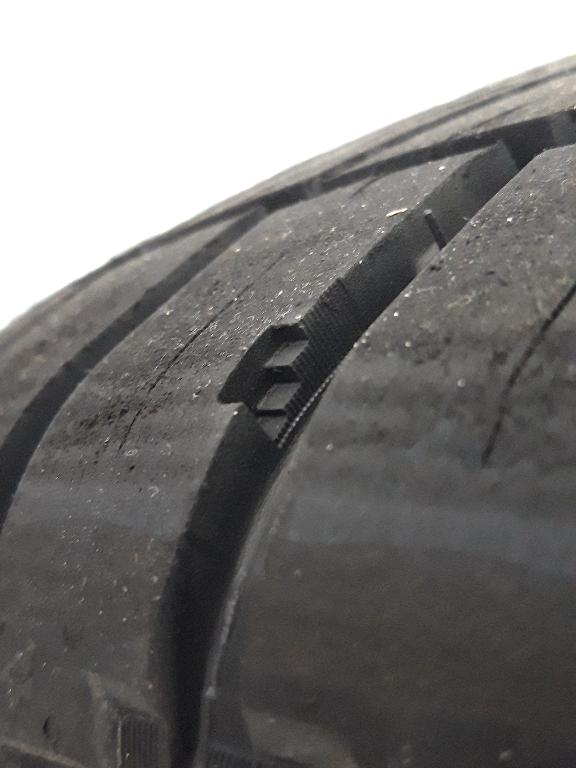temoin:75: (206, 291, 358, 458)
